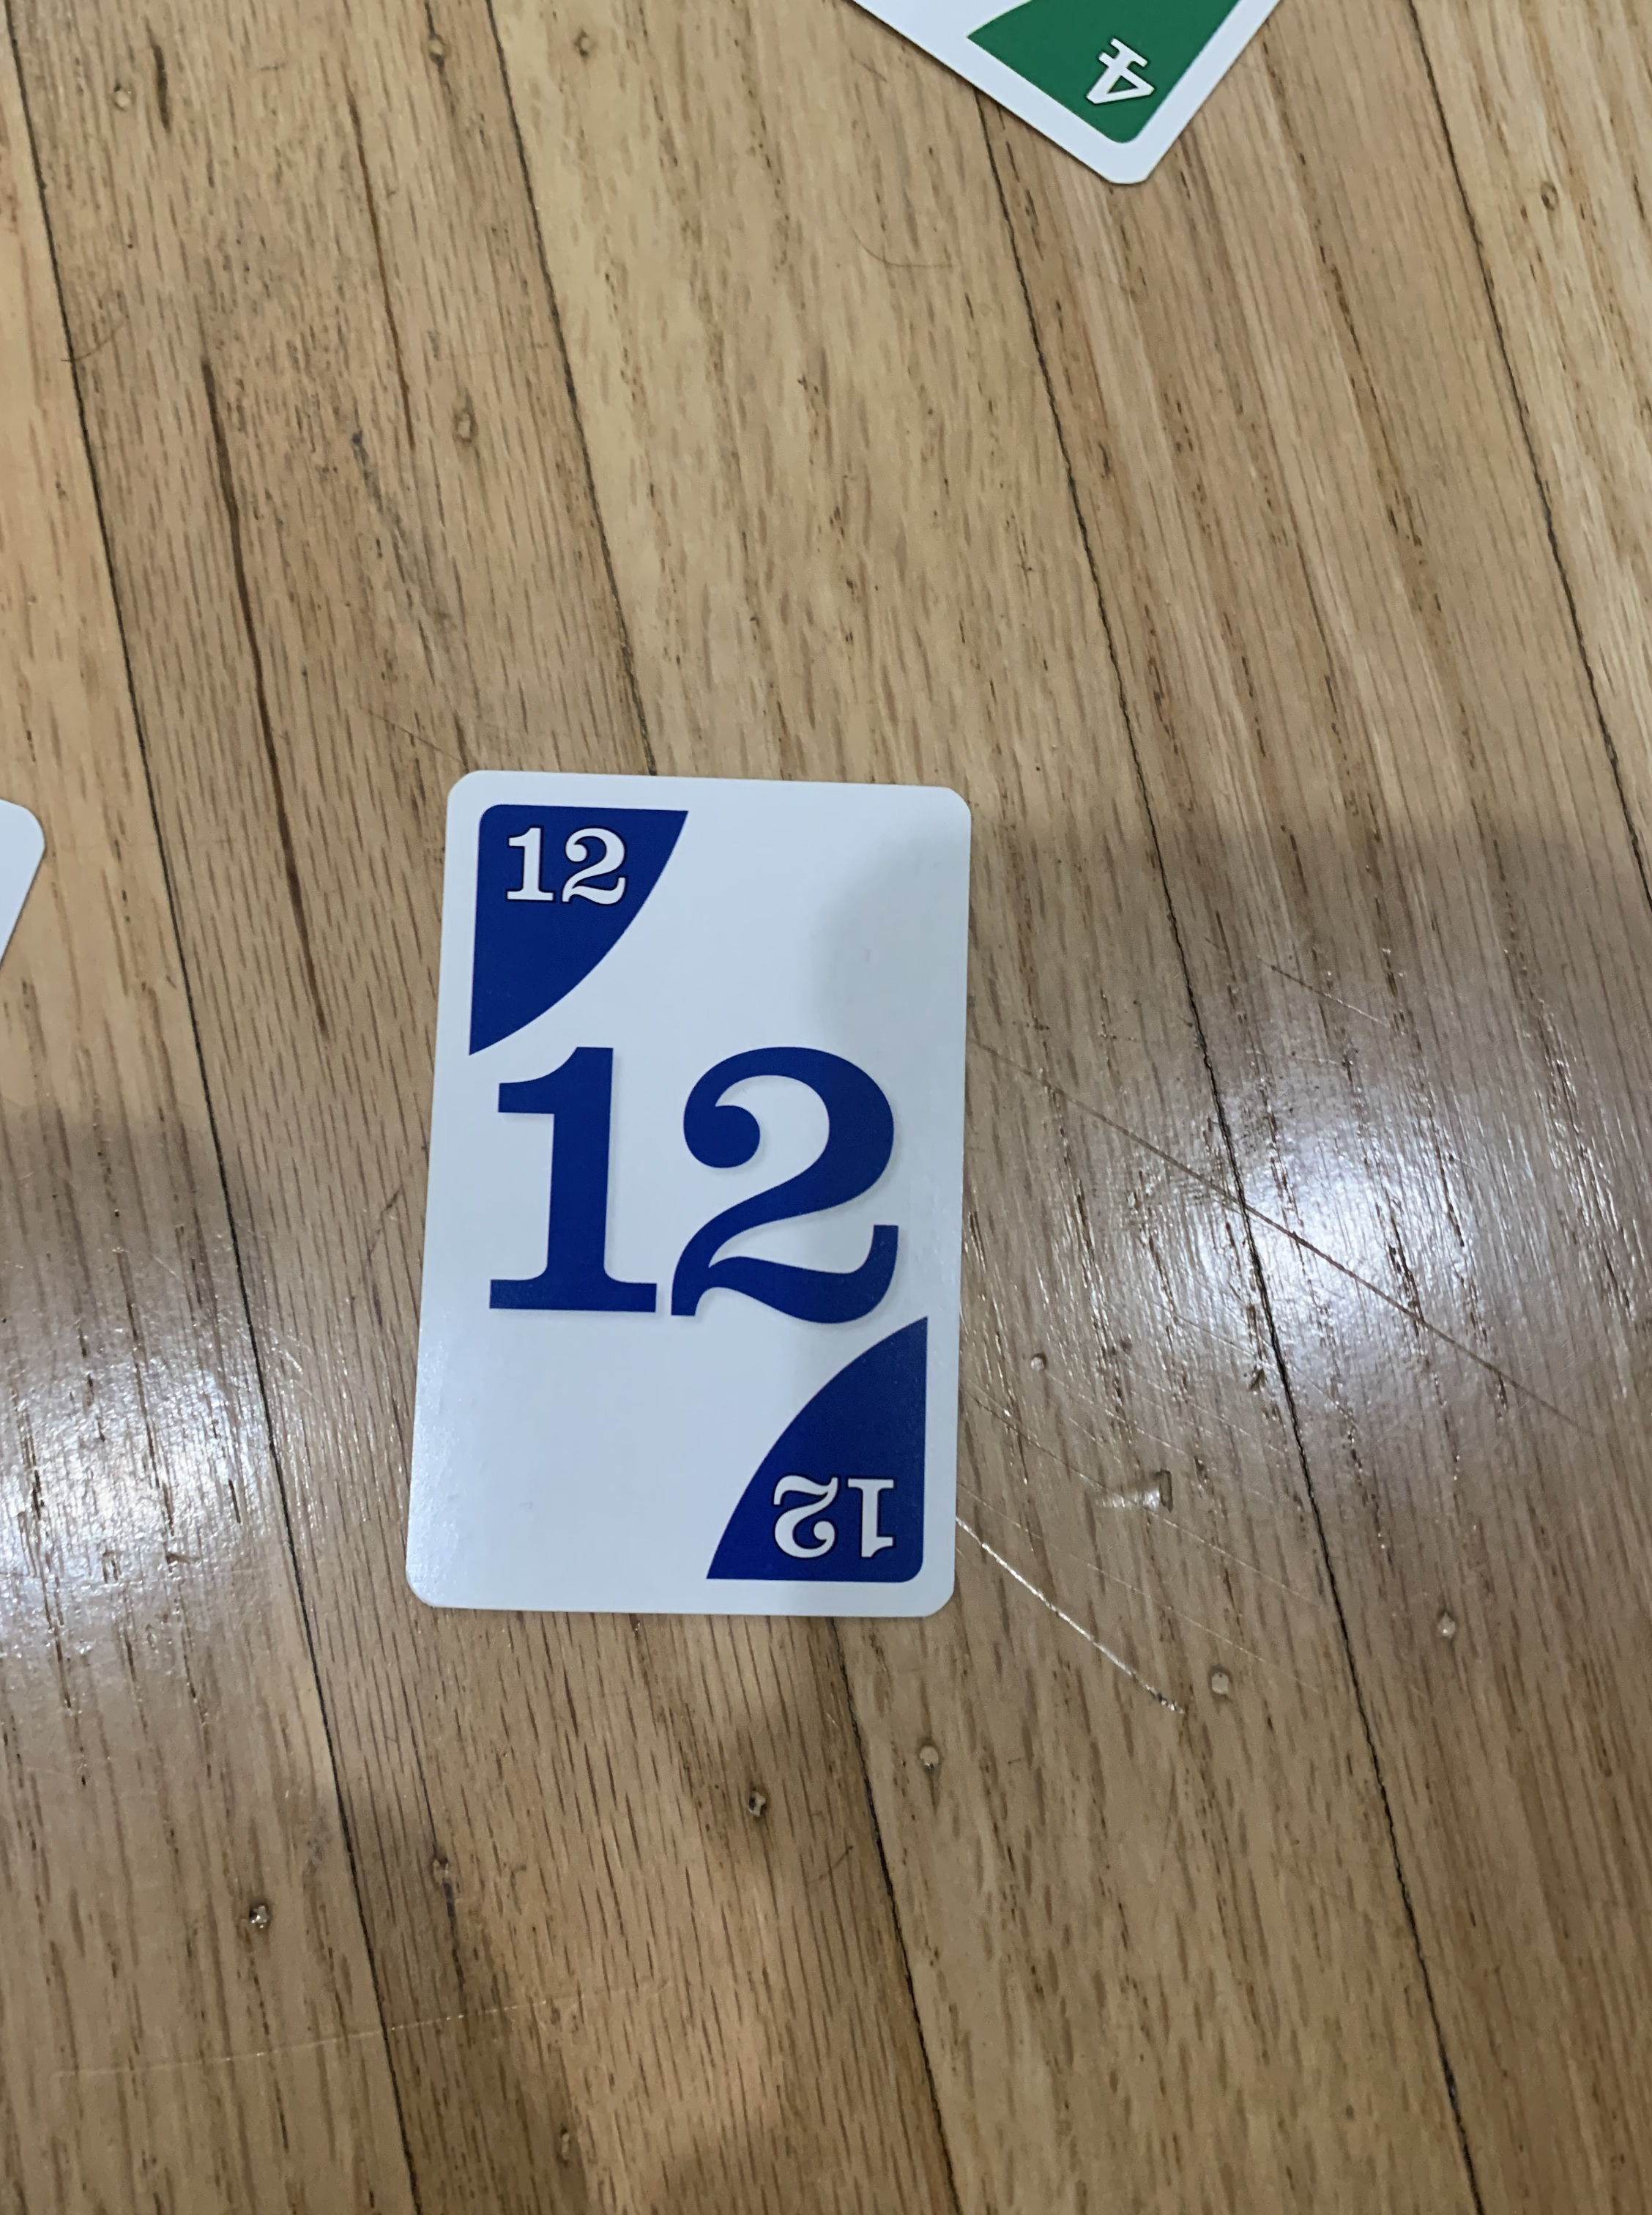twelve: (387, 767, 994, 1623)
